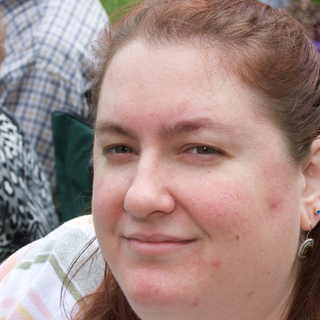eye: (175, 139, 229, 163), (99, 139, 143, 163)
